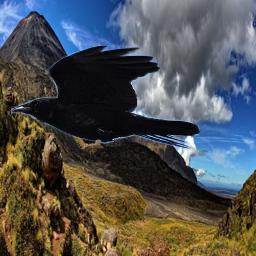Crow: (11, 45, 201, 151)
